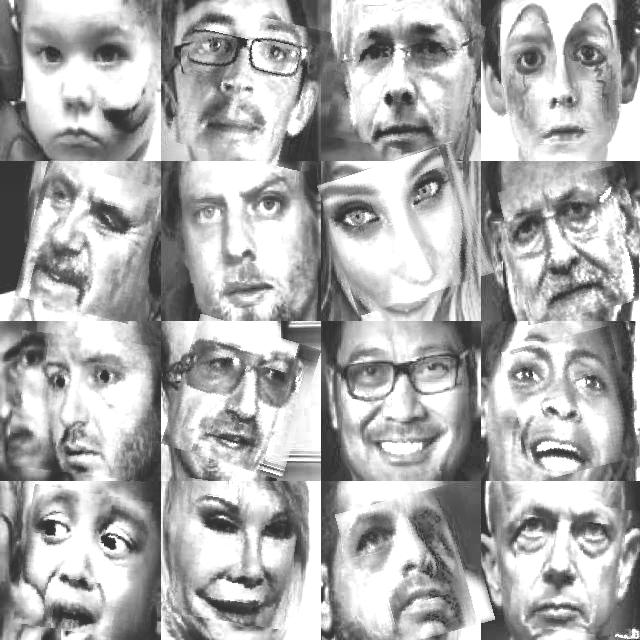fear: (10, 334, 158, 478), (18, 489, 148, 637), (179, 172, 317, 306), (509, 332, 634, 476)
happy: (326, 151, 486, 307), (22, 166, 154, 318), (169, 482, 299, 626), (341, 341, 471, 471)
neutral: (175, 10, 325, 164), (331, 8, 481, 154), (343, 488, 486, 640), (170, 322, 312, 472), (505, 169, 640, 319), (25, 12, 158, 160), (511, 500, 640, 635), (498, 21, 631, 145)
